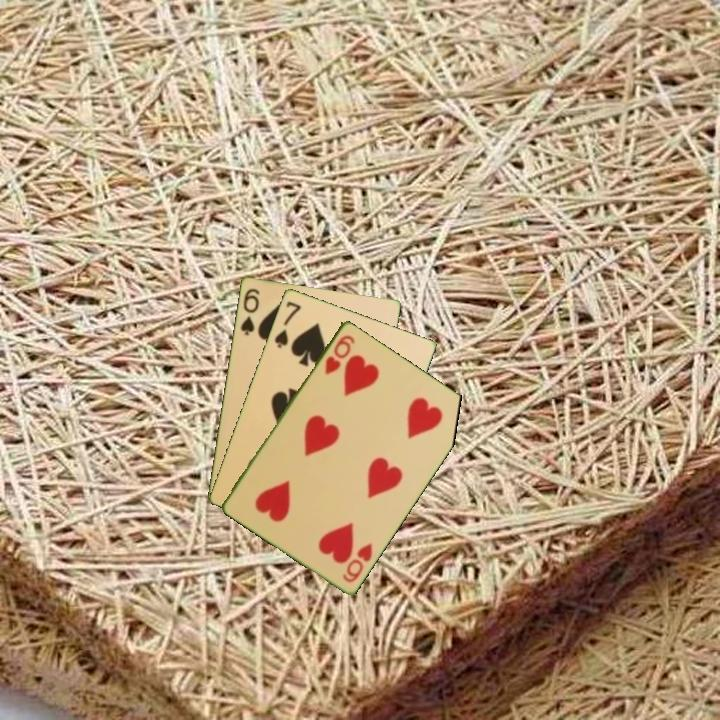6h: (321, 331, 358, 377), (339, 539, 375, 585)
6s: (237, 284, 263, 338)
7s: (271, 297, 304, 351)
